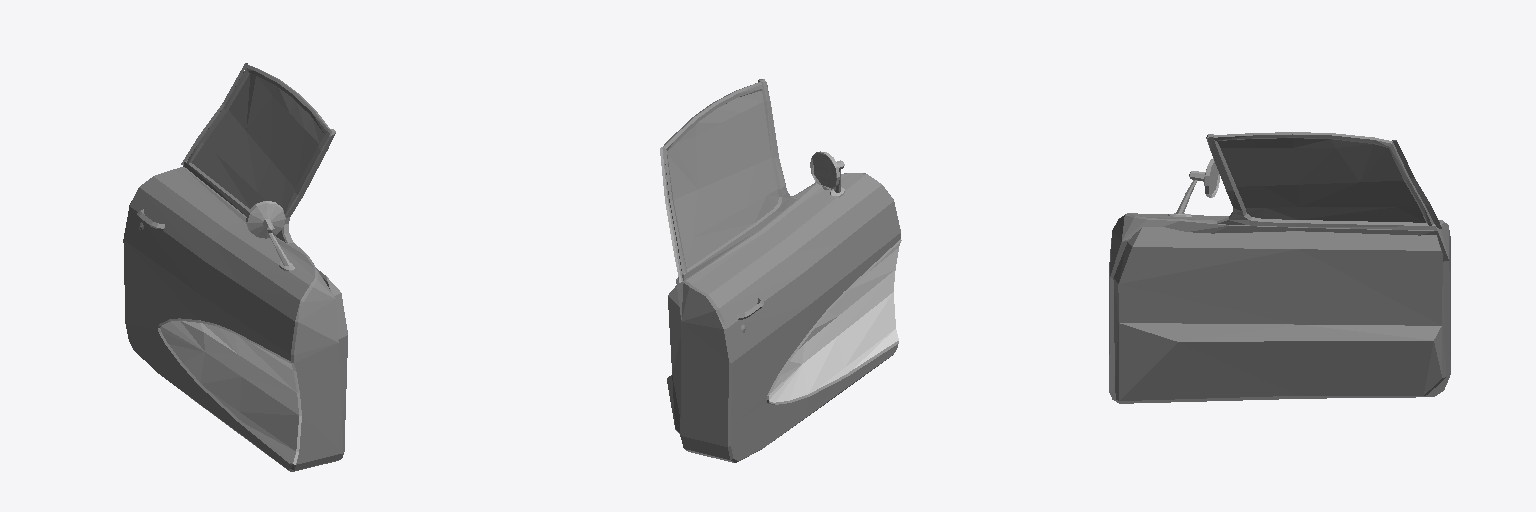
3 views of the same model, side by side, from view 1: azimuth 30°, elevation 25°; view 2: azimuth 150°, elevation 25°; view 3: azimuth 270°, elevation 25° (orthographic).
Visible parts, largest first — view 1: Door_L; view 2: Door_L; view 3: Door_L.
Boxes of the visible parts, x1,y1,x2,y2 form: Door_L: [123, 63, 347, 471]; Door_L: [660, 79, 901, 462]; Door_L: [1109, 132, 1450, 403].
Size of the model in its own units: 7.99 by 21.99 by 23.21.
4 materials, 1 textured.